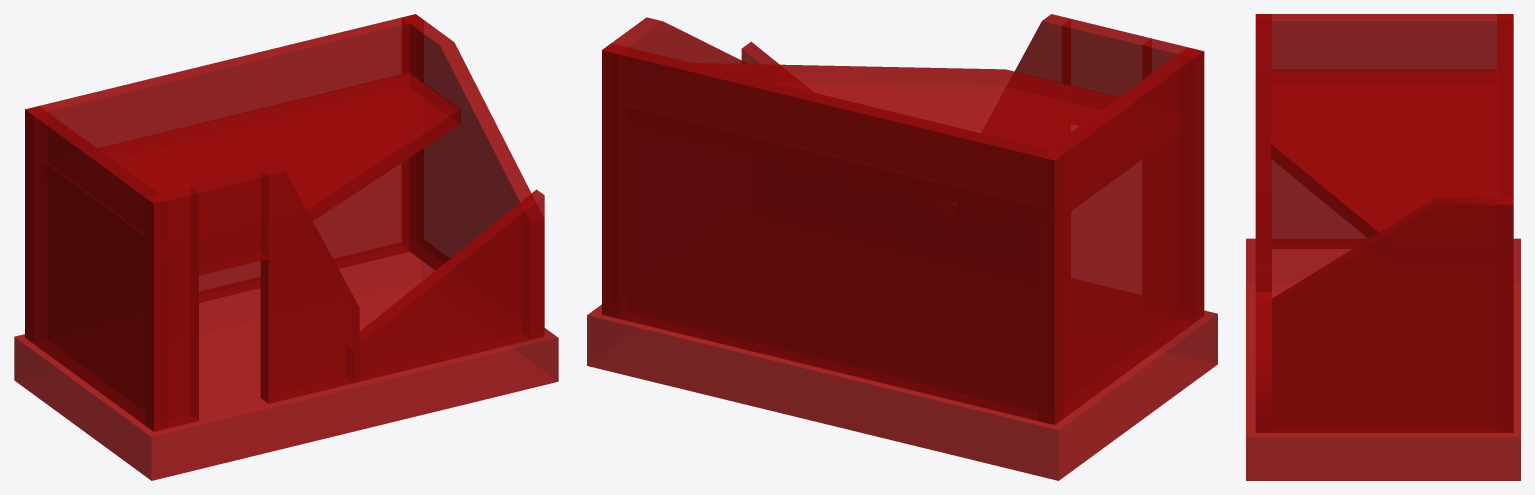
File: SM_Bld_Village_House_05_Destroyed_Collision.fbx
The picture shows the model from 3 angles, left to right: view 1: azimuth 30°, elevation 25°; view 2: azimuth 150°, elevation 25°; view 3: azimuth 270°, elevation 25°; orthographic projection. The views are drawn at different scales.
Parts seen in each view (by area): view 1: SM_Bld_Village_House_05_Destroyed_Collision; view 2: SM_Bld_Village_House_05_Destroyed_Collision; view 3: SM_Bld_Village_House_05_Destroyed_Collision.
Part boxes in pixels (x1=…): SM_Bld_Village_House_05_Destroyed_Collision: x1=14, y1=14, x2=558, y2=480; SM_Bld_Village_House_05_Destroyed_Collision: x1=587, y1=14, x2=1217, y2=480; SM_Bld_Village_House_05_Destroyed_Collision: x1=1246, y1=14, x2=1520, y2=480.
Bounding box in the file's own units: 717 × 458 × 419.
